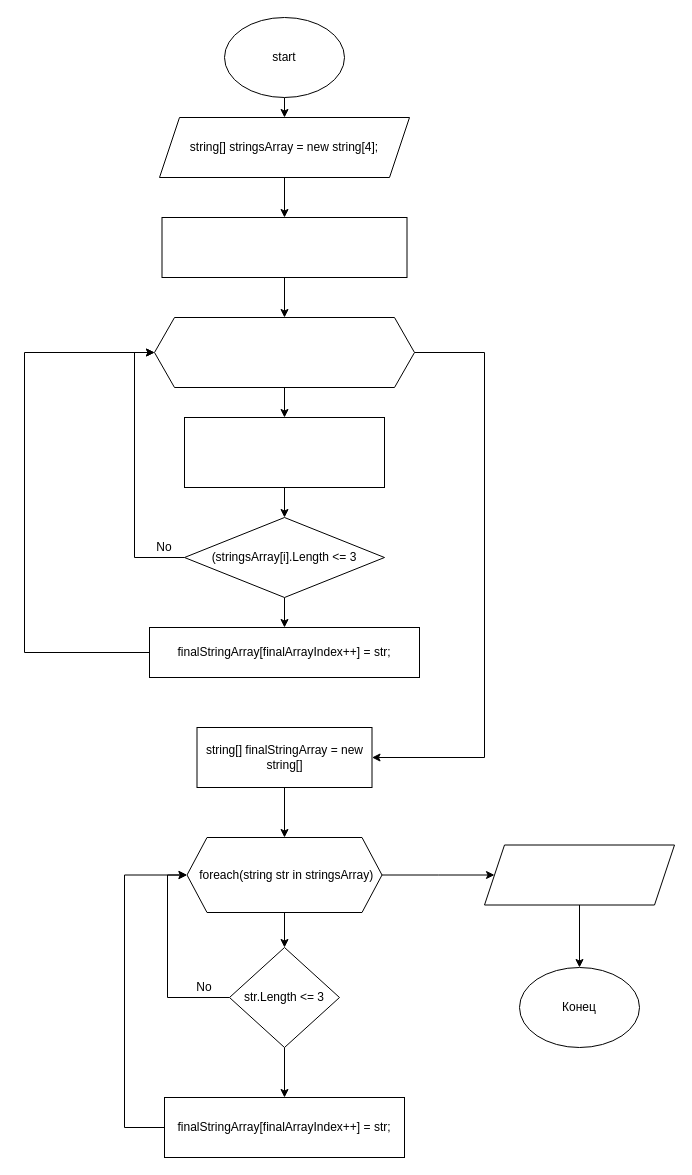
The diagram is 692 pixels wide and 1175 high, and some of its shapes have lost their labels. The shapes that lost their labels are listed below. From the top down, each one's box as (x1, y1, x2, y2) in pixels, then its label:
(161, 216, 407, 278): int finalArrayLength = 0; int finalArrayIndex = 0;
(154, 316, 414, 388): int i = 0; i < stringsArray.Length; i++
(184, 416, 384, 488): Введите строку; stringsArray[i] = Console.ReadLine();
(484, 844, 674, 905): return finalStringArray
